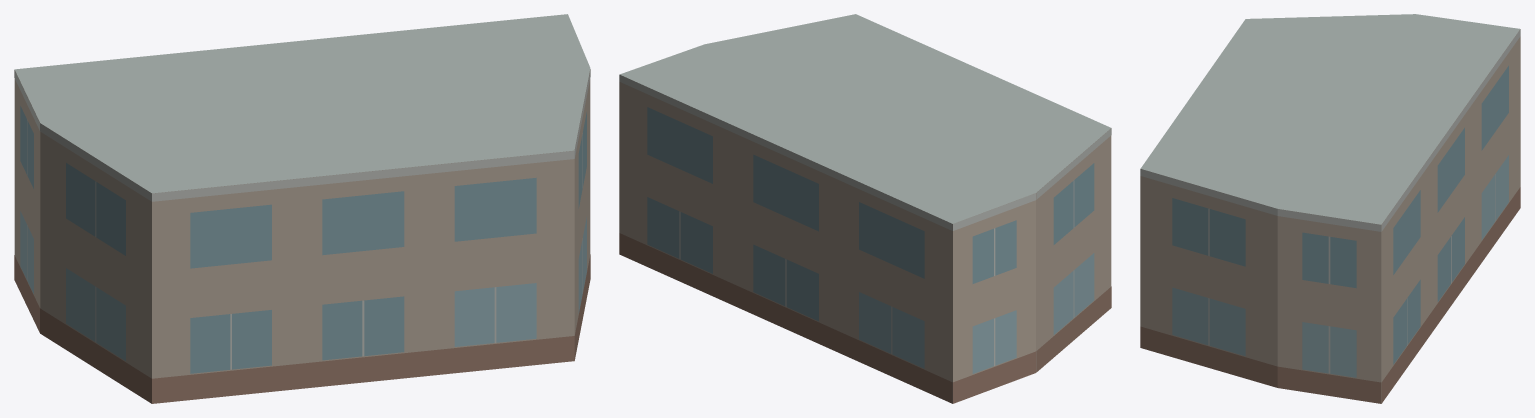
The model's file is survey-upis-32702537.glb.
3 renders of one model, left to right at view 1: azimuth 30°, elevation 25°; view 2: azimuth 150°, elevation 25°; view 3: azimuth 270°, elevation 25°, orthographic. The views are drawn at different scales.
Parts seen in each view (by area): view 1: survey-upis-32702537.tmp; view 2: survey-upis-32702537.tmp; view 3: survey-upis-32702537.tmp.
Part boxes in pixels (box(x1,y1,x2,y2)): survey-upis-32702537.tmp: box(14, 14, 590, 403); survey-upis-32702537.tmp: box(619, 14, 1111, 403); survey-upis-32702537.tmp: box(1140, 14, 1520, 403).
Size of the model in its own units: 15.4 by 6.1 by 11.74.
